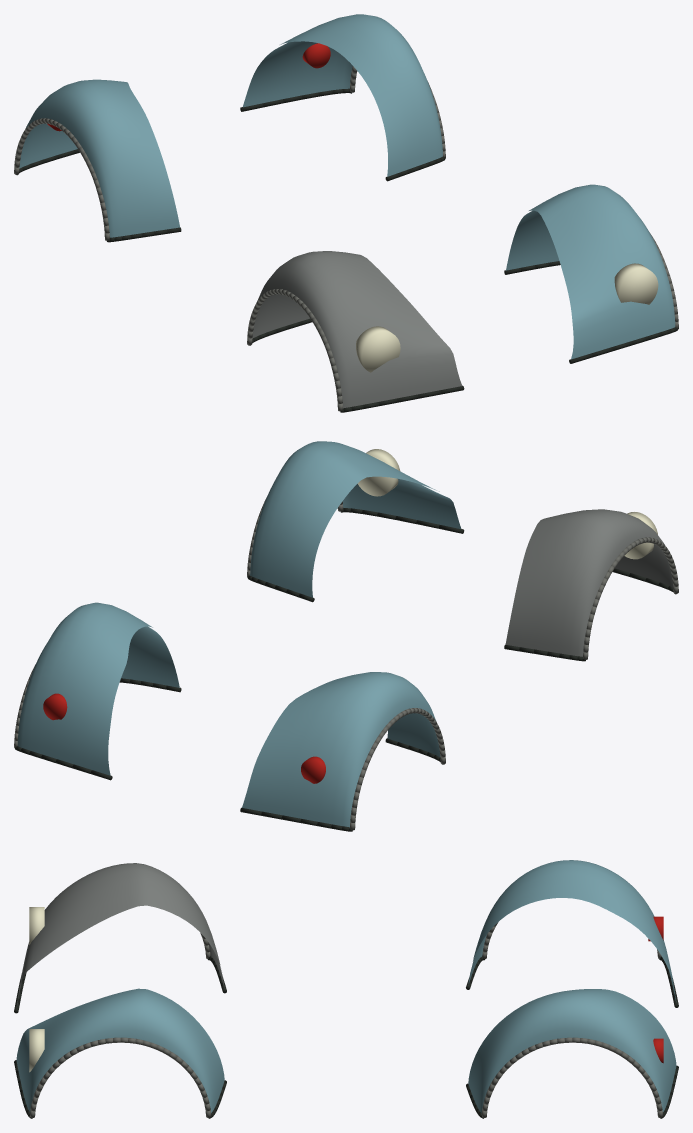
The model's file is PART_007_CutBajaFenders.glb.
The picture shows the model from 3 angles, top to bottom: view 1: azimuth 30°, elevation 25°; view 2: azimuth 150°, elevation 25°; view 3: azimuth 270°, elevation 25°; orthographic projection. The views are drawn at different scales.
Visible parts, largest first — view 1: BODY_BajaCut_Fender_FL, BODY_BajaCut_Fender_FR, BODY_BajaCut_Fender_RR, BODY_BajaCut_Fender_RL, EXTERIOR_BajaLamp_FL, EXTERIOR_BajaLamp_FR, TRIM_FenderLip_FL, TRIM_FenderLip_RL, TRIM_FrontCut_FL; view 2: BODY_BajaCut_Fender_RL, BODY_BajaCut_Fender_RR, BODY_BajaCut_Fender_FR, BODY_BajaCut_Fender_FL, TRIM_FenderLip_RL, TRIM_FenderLip_FL, EXTERIOR_BajaLamp_FR, TRIM_FrontCut_FR; view 3: BODY_BajaCut_Fender_RR, BODY_BajaCut_Fender_FR, BODY_BajaCut_Fender_FL, BODY_BajaCut_Fender_RL, TRIM_FenderLip_FR, TRIM_FenderLip_RR, EXTERIOR_BajaLamp_FR, EXTERIOR_BajaLamp_FL.
Part boxes in pixels (x1=…): BODY_BajaCut_Fender_FL: x1=252, y1=251, x2=462, y2=408; BODY_BajaCut_Fender_FR: x1=506, y1=184, x2=675, y2=359; BODY_BajaCut_Fender_RR: x1=243, y1=14, x2=442, y2=176; BODY_BajaCut_Fender_RL: x1=19, y1=79, x2=179, y2=237; EXTERIOR_BajaLamp_FL: x1=356, y1=326, x2=400, y2=372; EXTERIOR_BajaLamp_FR: x1=614, y1=263, x2=658, y2=304; TRIM_FenderLip_FL: x1=247, y1=289, x2=342, y2=411; TRIM_FenderLip_RL: x1=14, y1=118, x2=109, y2=240; TRIM_FrontCut_FL: x1=340, y1=385, x2=464, y2=412; BODY_BajaCut_Fender_RL: x1=242, y1=672, x2=440, y2=827; BODY_BajaCut_Fender_RR: x1=17, y1=602, x2=179, y2=775; BODY_BajaCut_Fender_FR: x1=250, y1=441, x2=461, y2=597; BODY_BajaCut_Fender_FL: x1=505, y1=509, x2=673, y2=656; TRIM_FenderLip_RL: x1=350, y1=708, x2=445, y2=830; TRIM_FenderLip_FL: x1=583, y1=537, x2=678, y2=659; EXTERIOR_BajaLamp_FR: x1=357, y1=449, x2=400, y2=496; TRIM_FrontCut_FR: x1=341, y1=508, x2=464, y2=533; BODY_BajaCut_Fender_RR: x1=468, y1=989, x2=676, y2=1112; BODY_BajaCut_Fender_FR: x1=16, y1=988, x2=224, y2=1112; BODY_BajaCut_Fender_FL: x1=16, y1=863, x2=224, y2=1007; BODY_BajaCut_Fender_RL: x1=468, y1=860, x2=676, y2=1002; TRIM_FenderLip_FR: x1=29, y1=1037, x2=211, y2=1117; TRIM_FenderLip_RR: x1=481, y1=1037, x2=662, y2=1117; EXTERIOR_BajaLamp_FR: x1=29, y1=1029, x2=44, y2=1072; EXTERIOR_BajaLamp_FL: x1=29, y1=907, x2=44, y2=944.
Bounding box in the file's own units: 2.01 × 0.6379 × 3.5.
